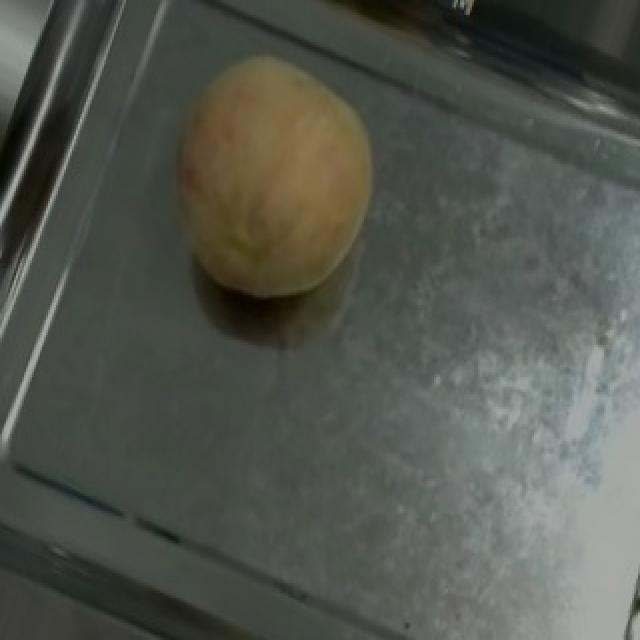Fruit: (128, 15, 418, 340)
